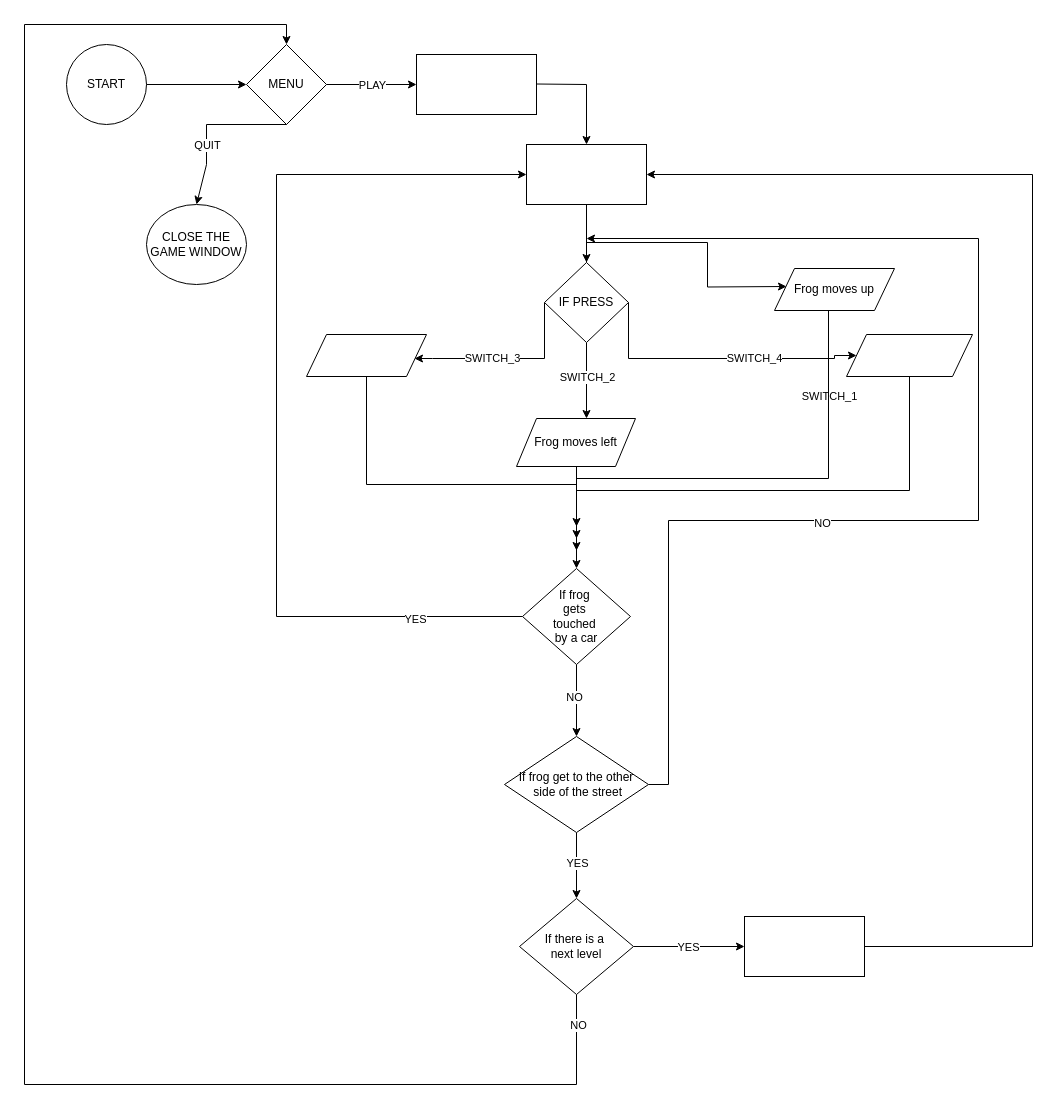
Image size: 1058x1110. Some labels were removed from this diagram. Each missing label, with the centre of its shape:
Frog moves down: the point at 909,355
Frog moves right: the point at 366,355
Frogger spawn point: the point at 586,174
Game Start: the point at 476,84
Increase the level: the point at 804,946
